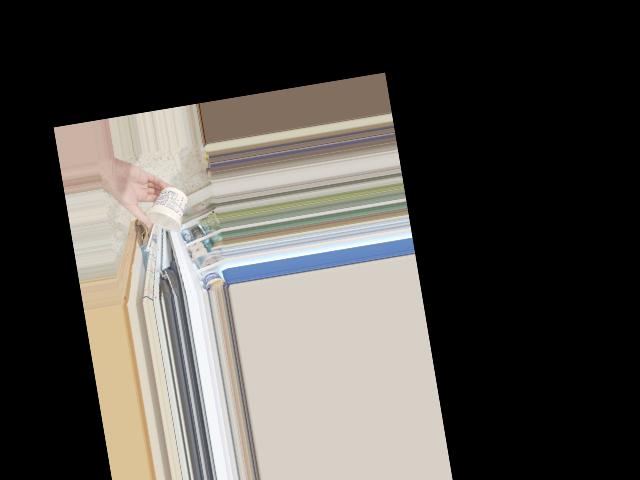cotage: (144, 191, 191, 237)
